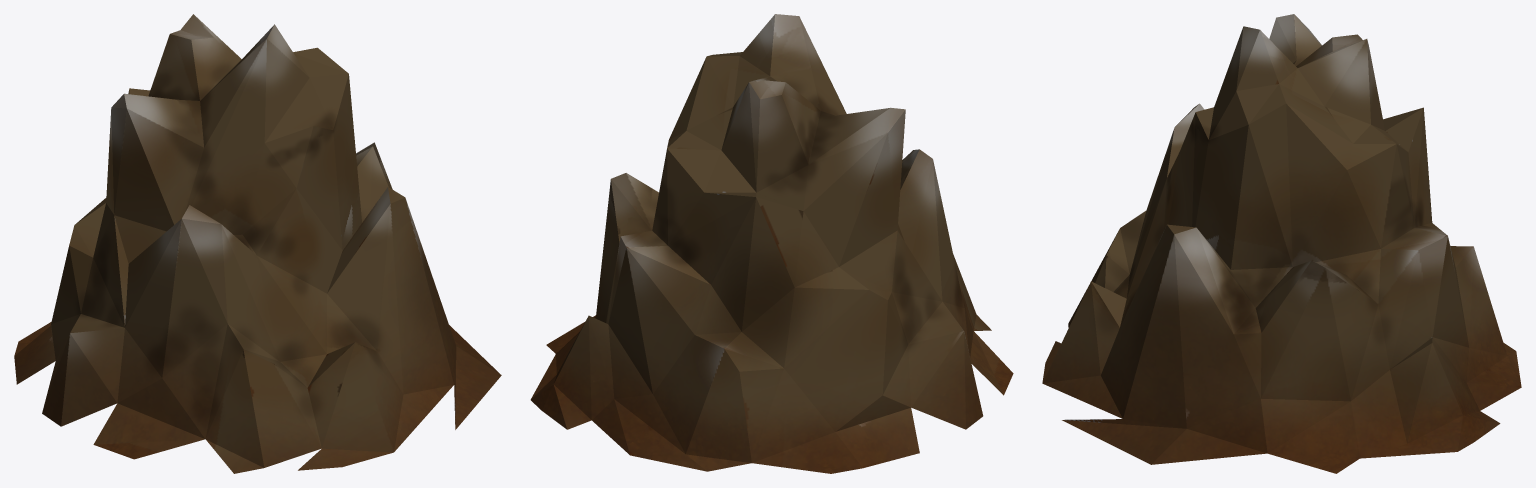
The model's file is iron.glb.
3 renders of one model, left to right at view 1: azimuth 30°, elevation 25°; view 2: azimuth 150°, elevation 25°; view 3: azimuth 270°, elevation 25°, orthographic.
Visible parts, largest first — view 1: iron.ore; view 2: iron.ore; view 3: iron.ore.
Boxes of the visible parts, box(x1,y1,x2,y2) form: iron.ore: box(14, 14, 501, 473); iron.ore: box(530, 14, 1013, 473); iron.ore: box(1042, 14, 1521, 473).
Bounding box in the file's own units: 1.5 × 1.26 × 1.55.
Materials: 1 (1 with a texture image).
